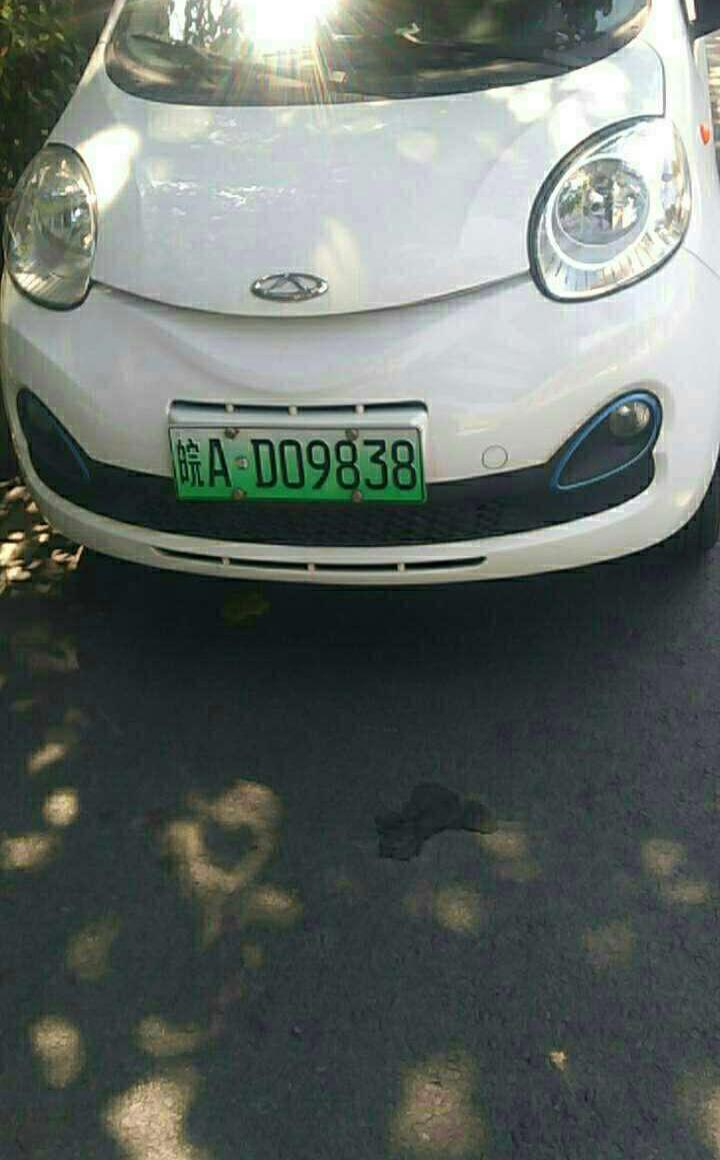car_id: (169, 422, 423, 499)
